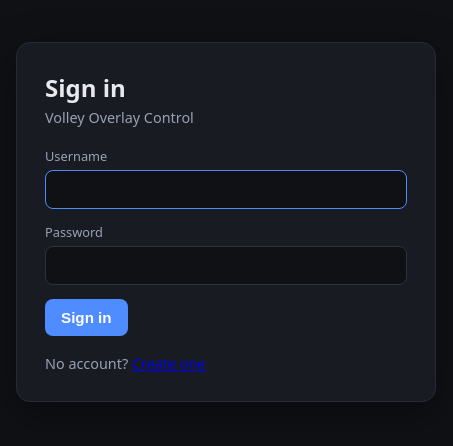
Test: LoginPage submit flows › surfaces the server detail for non-401 errors (deactivated / rate limit)
The image size is (453, 446).
Type "alice" into the field labelled "Username". click: (226, 190)
box: [45,170,407,209]
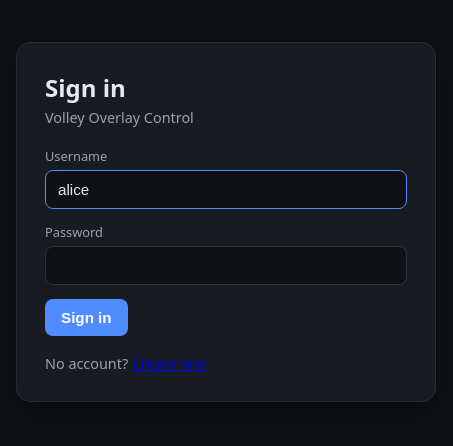
Type "secret123" into the password field labelled "Password". click: (226, 266)
box: [45,246,407,285]
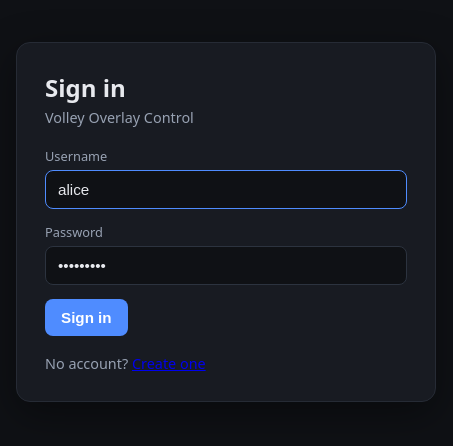
Click the button "Sign in". click: (86, 318)
box: [45,299,128,336]
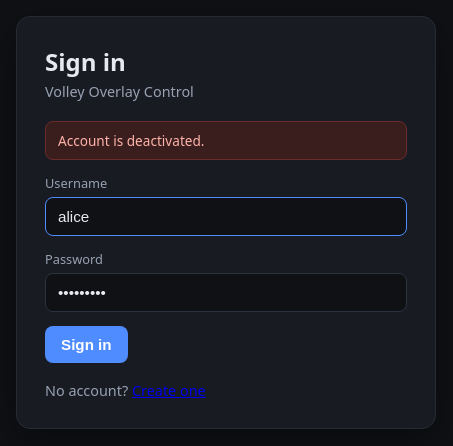
expect the text "Account is deactivated." is shown: met, box [45,120,407,160]
